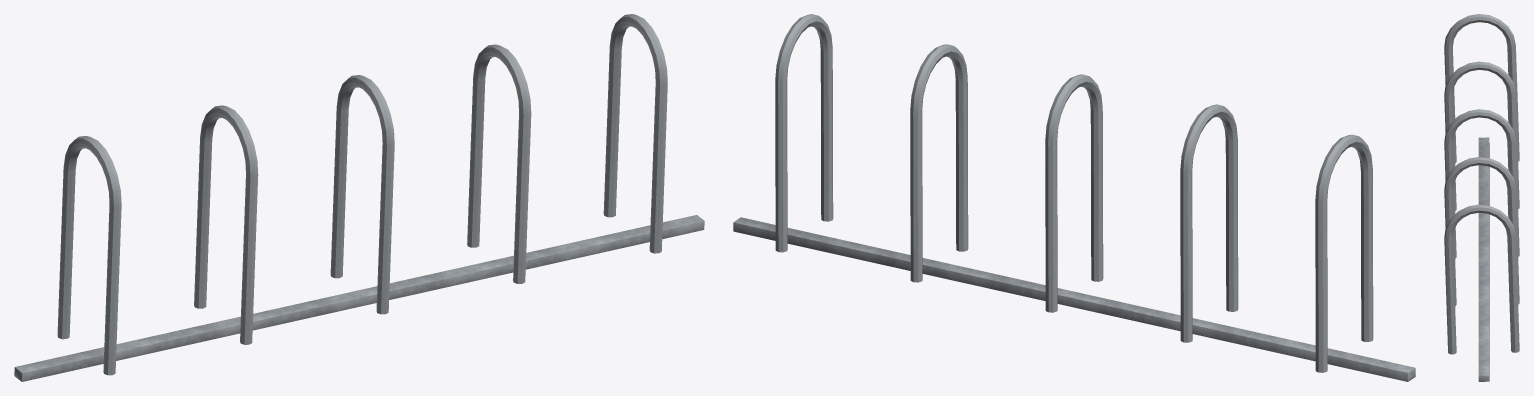
Rendered from PAV-MOB-003_anim.glb.
The picture shows the model from 3 angles, left to right: view 1: azimuth 30°, elevation 25°; view 2: azimuth 150°, elevation 25°; view 3: azimuth 270°, elevation 25°; orthographic projection. The views are drawn at different scales.
Visible parts, largest first — view 1: PAV-MOB-003_anim0; view 2: PAV-MOB-003_anim0; view 3: PAV-MOB-003_anim0.
Part boxes in pixels (<box>): PAV-MOB-003_anim0: <box>14,14,704,381</box>; PAV-MOB-003_anim0: <box>733,14,1415,381</box>; PAV-MOB-003_anim0: <box>1444,14,1519,381</box>.
Size of the model in its own units: 3 by 1 by 0.4191.
1 material, 1 textured.
